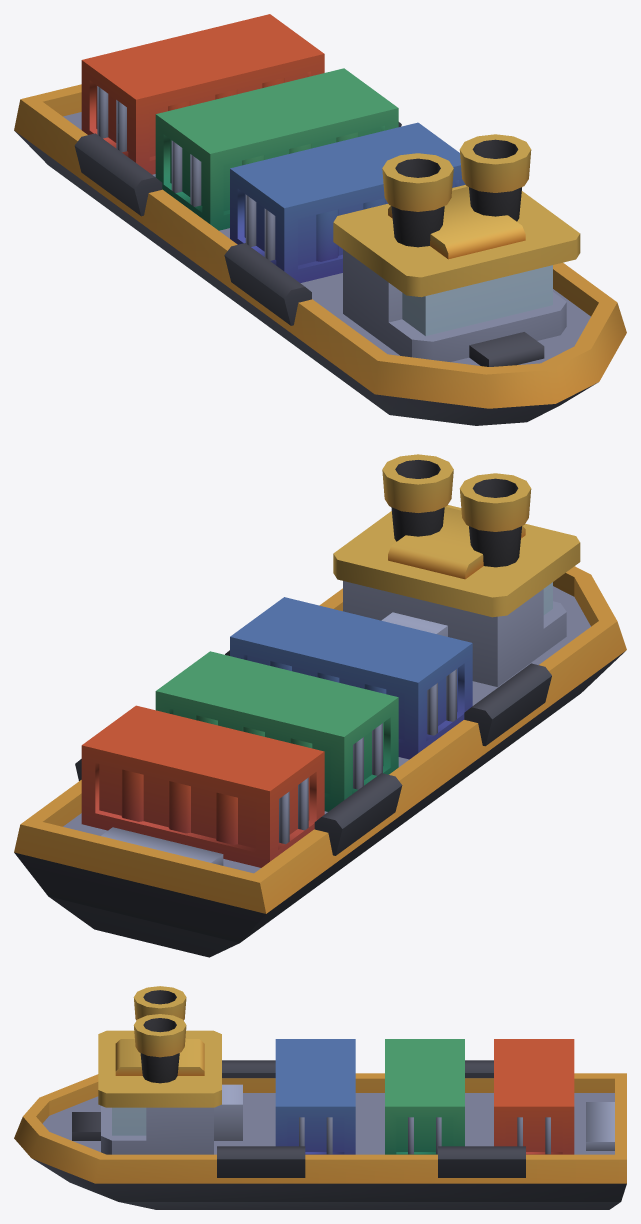
Rendered from navio-cargueiro.glb.
3 renders of one model, top to bottom at view 1: azimuth 30°, elevation 25°; view 2: azimuth 150°, elevation 25°; view 3: azimuth 270°, elevation 25°, orthographic. The views are drawn at different scales.
Visible parts, largest first — view 1: modelo; view 2: modelo; view 3: modelo.
Boxes of the visible parts, left/top/right/bottom form: modelo: left=14, top=14, right=626, bottom=425; modelo: left=14, top=454, right=626, bottom=957; modelo: left=14, top=986, right=626, bottom=1209.
Bounding box in the file's own units: 2.08 × 1.79 × 5.6.
